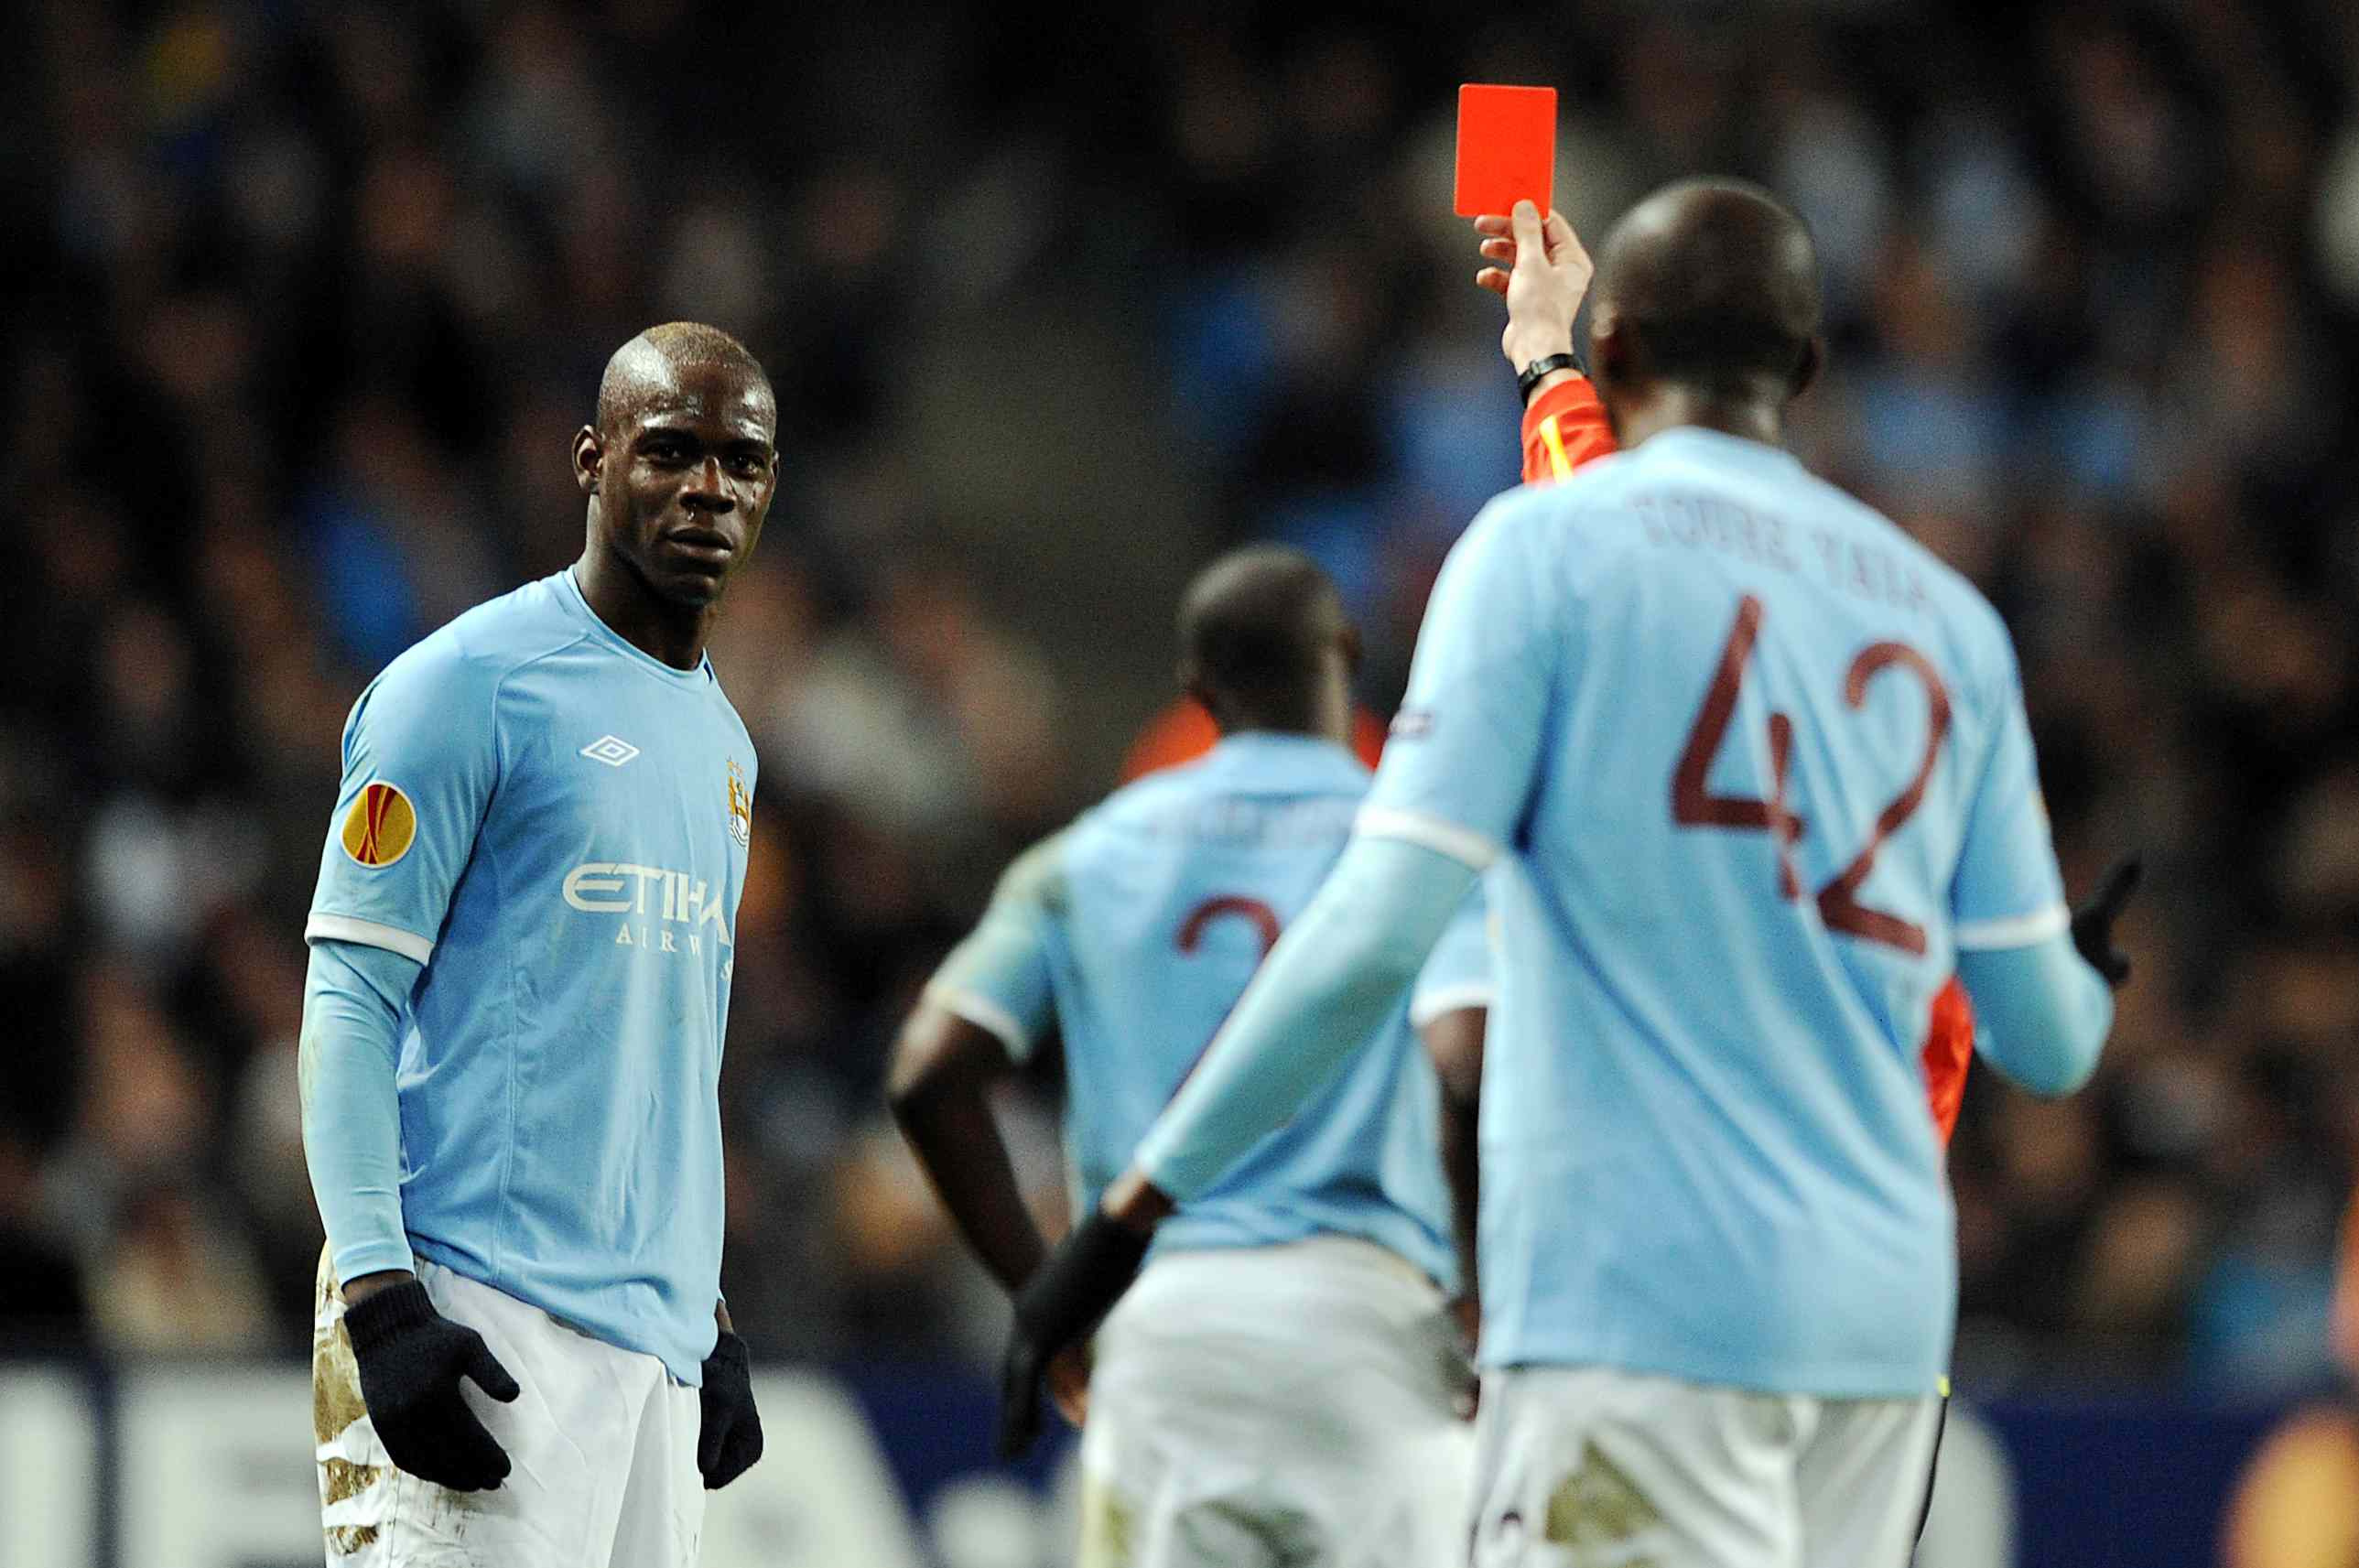red_card: (1409, 33, 1631, 378)
